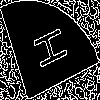H: (25, 24, 69, 75)
